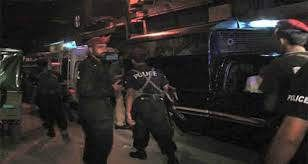uniform: (124, 67, 174, 142), (74, 60, 114, 149), (28, 73, 68, 135)
